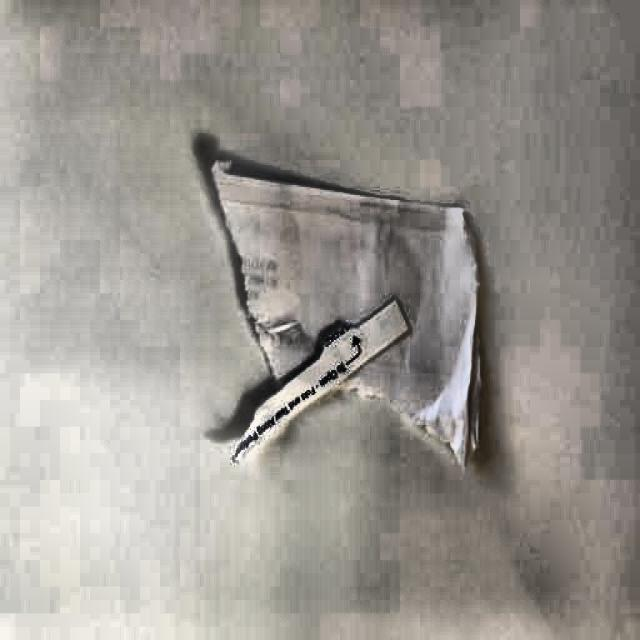paper: (205, 150, 486, 492)
